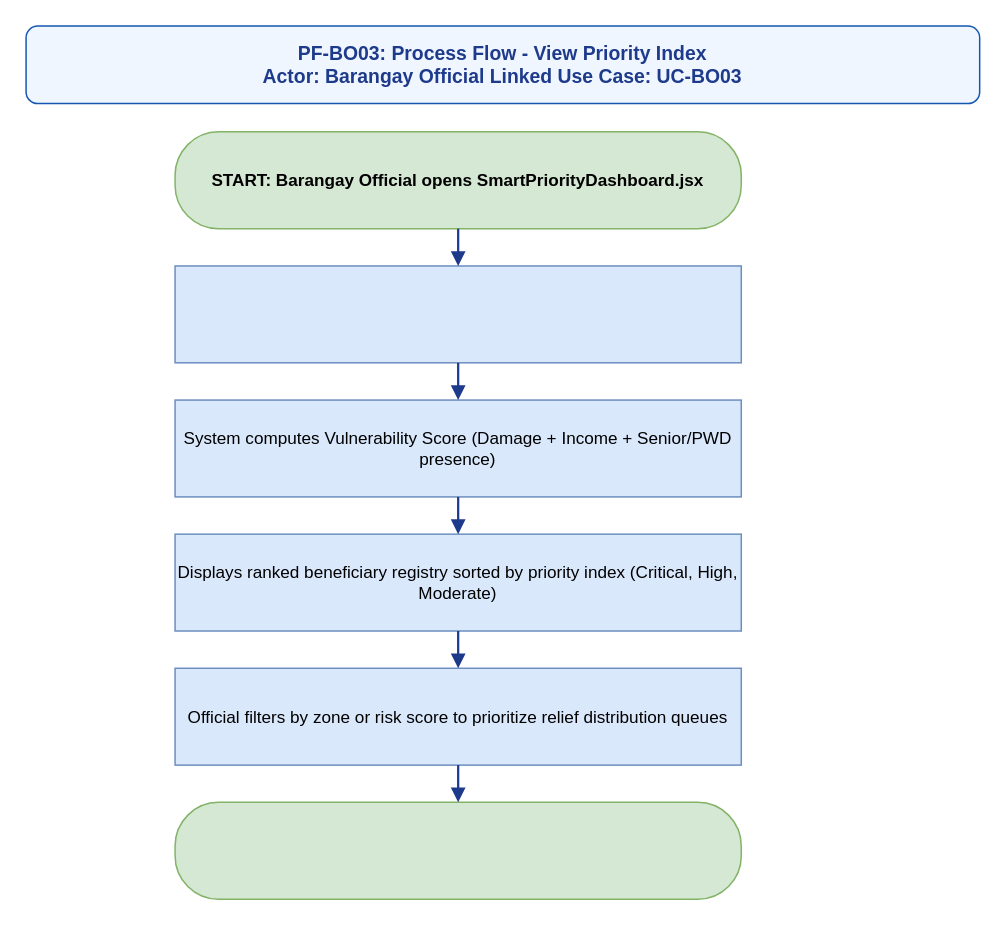
Some shapes in this 1006 by 925 pixel diagram are drawn without their labels. Here are the shapes that lost their labels. From the top down, the box of each, then its label:
(174, 264, 741, 363): Calls GET /api/households (scoped to own barangay) to fetch verified families
(174, 801, 741, 899): END: Vulnerability rankings reviewed for equitable relief allocation
